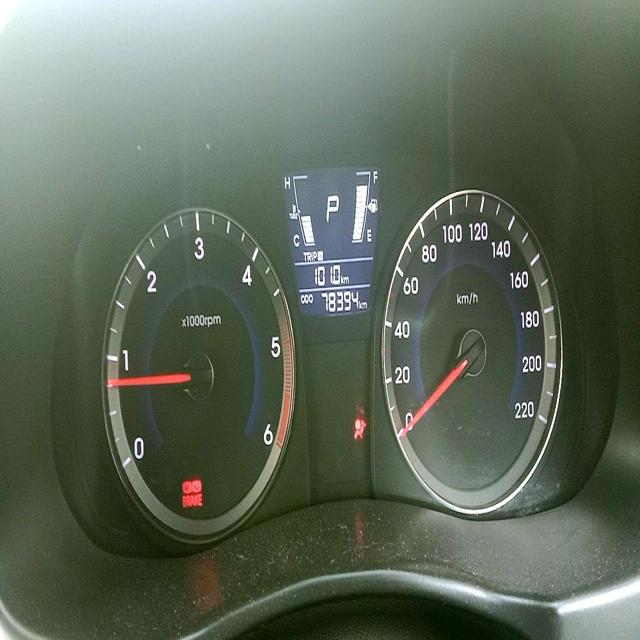odometer: (318, 288, 361, 315)
